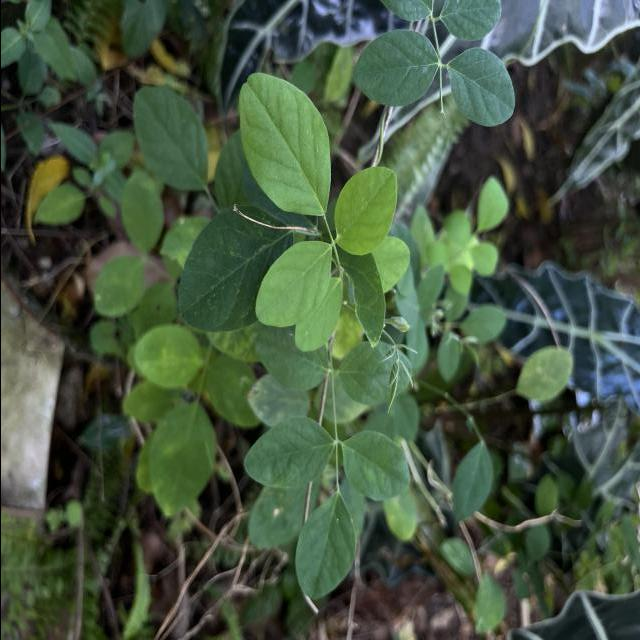Clitoria ternatea: (236, 70, 332, 216), (350, 28, 439, 108), (254, 240, 332, 328), (332, 165, 398, 257), (444, 46, 515, 128)
